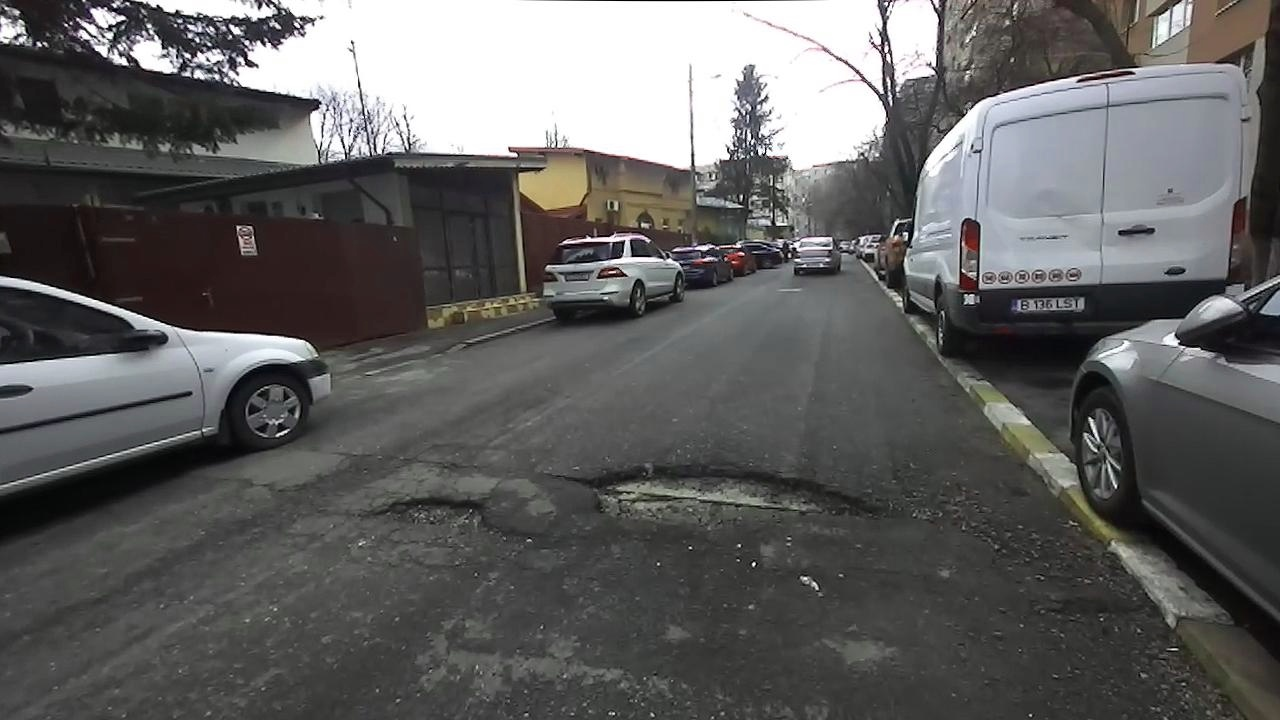pothole: (549, 452, 901, 535), (361, 492, 519, 542)
